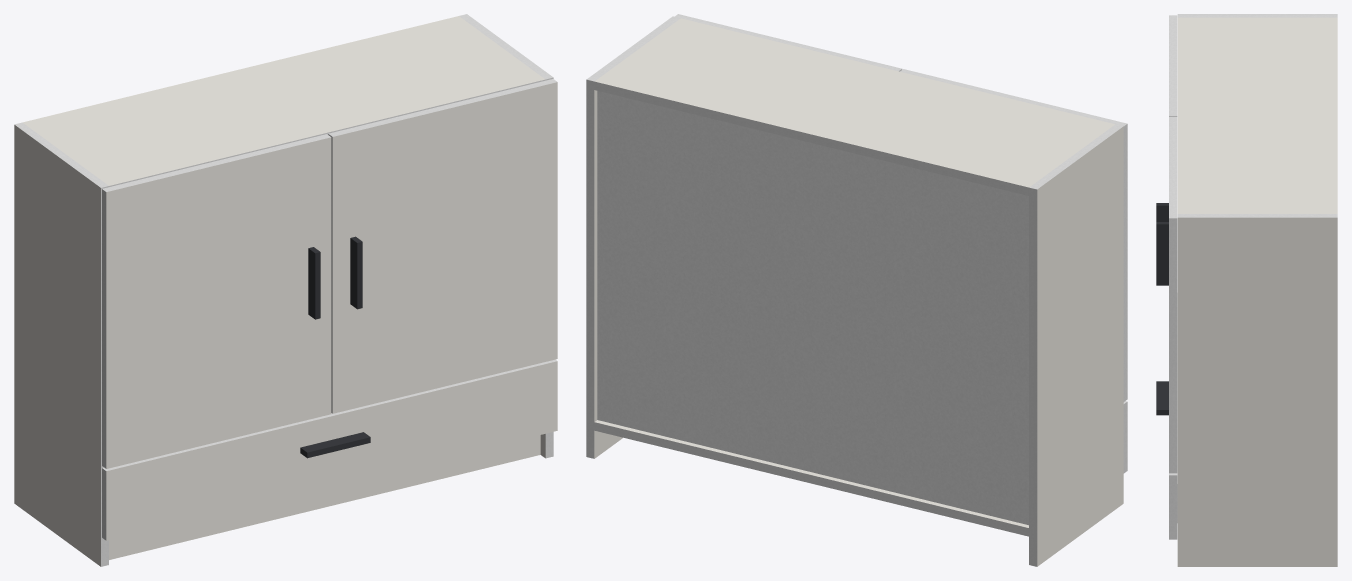
The model's file is LIT-CON-std.glb.
3 renders of one model, left to right at view 1: azimuth 30°, elevation 25°; view 2: azimuth 150°, elevation 25°; view 3: azimuth 270°, elevation 25°, orthographic. The views are drawn at different scales.
Visible parts, largest first — view 1: door-r:pbr, door-l:pbr, top:pbr, side-l:pbr, d1-front:pbr, plinth:pbr, pull, door-l:sheet:eyJtIjoibWRmIiwic2lkZSI6ImVkZ2UtbG9uZyIsInNlZWQ, d1-front:sheet:eyJtIjoibWRmIiwic2lkZSI6ImVkZ2UtbG9uZyIsInNlZ, door-l:sheet:eyJtIjoibWRmIiwic2lkZSI6ImVkZ2UtZW5kIiwic2VlZCI, door-r:sheet:eyJtIjoibWRmIiwic2lkZSI6ImVkZ2UtZW5kIiwic2VlZCI, top:sheet:eyJtIjoibWRmIiwic2lkZSI6ImVkZ2UtbG9uZyIsInNlZWQiOj (+2 smaller); view 2: back:sheet:eyJtIjoibWRmIiwic2lkZSI6ImZhY2UiLCJzZWVkIjoyLCJ0a, top:pbr, side-l:pbr, top:sheet:eyJtIjoibWRmIiwic2lkZSI6ImVkZ2UtbG9uZyIsInNlZWQiOj, bottom:sheet:eyJtIjoibWRmIiwic2lkZSI6ImVkZ2UtbG9uZyIsInNlZWQ, side-r:sheet:eyJtIjoibWRmIiwic2lkZSI6ImVkZ2UtbG9uZyIsInNlZWQ, side-l:sheet:eyJtIjoibWRmIiwic2lkZSI6ImVkZ2UtbG9uZyIsInNlZWQ, side-r:pbr, bottom:pbr, door-l:sheet:eyJtIjoibWRmIiwic2lkZSI6ImVkZ2UtbG9uZyIsInNlZWQ, door-r:sheet:eyJtIjoibWRmIiwic2lkZSI6ImVkZ2UtZW5kIiwic2VlZCI, door-l:sheet:eyJtIjoibWRmIiwic2lkZSI6ImVkZ2UtZW5kIiwic2VlZCI (+2 smaller); view 3: side-r:pbr, top:pbr, door-r:sheet:eyJtIjoibWRmIiwic2lkZSI6ImVkZ2UtbG9uZyIsInNlZWQ, pull, door-l:sheet:eyJtIjoibWRmIiwic2lkZSI6ImVkZ2UtZW5kIiwic2VlZCI, door-r:sheet:eyJtIjoibWRmIiwic2lkZSI6ImVkZ2UtZW5kIiwic2VlZCI, side-l:sheet:eyJtIjoibWRmIiwic2lkZSI6ImVkZ2UtZW5kIiwic2VlZCI, side-r:sheet:eyJtIjoibWRmIiwic2lkZSI6ImVkZ2UtZW5kIiwic2VlZCI, d1-front:sheet:eyJtIjoibWRmIiwic2lkZSI6ImVkZ2UtZW5kIiwic2VlZ.
Part boxes in pixels (box(x1,y1,x2,y2)): door-r:pbr: box(332, 82, 557, 413); door-l:pbr: box(106, 137, 331, 468); top:pbr: box(22, 16, 545, 185); side-l:pbr: box(14, 125, 100, 566); d1-front:pbr: box(106, 361, 557, 540); plinth:pbr: box(109, 435, 540, 559); pull: box(300, 236, 370, 458); door-l:sheet:eyJtIjoibWRmIiwic2lkZSI6ImVkZ2UtbG9uZyIsInNlZWQ: box(102, 189, 106, 468); d1-front:sheet:eyJtIjoibWRmIiwic2lkZSI6ImVkZ2UtbG9uZyIsInNlZ: box(102, 359, 557, 470); door-l:sheet:eyJtIjoibWRmIiwic2lkZSI6ImVkZ2UtZW5kIiwic2VlZCI: box(102, 134, 330, 191); door-r:sheet:eyJtIjoibWRmIiwic2lkZSI6ImVkZ2UtZW5kIiwic2VlZCI: box(328, 79, 556, 136); top:sheet:eyJtIjoibWRmIiwic2lkZSI6ImVkZ2UtbG9uZyIsInNlZWQiOj: box(109, 79, 545, 186); back:sheet:eyJtIjoibWRmIiwic2lkZSI6ImZhY2UiLCJzZWVkIjoyLCJ0a: box(597, 91, 1028, 525); top:pbr: box(595, 18, 1114, 187); side-l:pbr: box(1037, 126, 1123, 566); top:sheet:eyJtIjoibWRmIiwic2lkZSI6ImVkZ2UtbG9uZyIsInNlZWQiOj: box(594, 81, 1028, 195); bottom:sheet:eyJtIjoibWRmIiwic2lkZSI6ImVkZ2UtbG9uZyIsInNlZWQ: box(594, 422, 1028, 536); side-r:sheet:eyJtIjoibWRmIiwic2lkZSI6ImVkZ2UtbG9uZyIsInNlZWQ: box(586, 79, 594, 458); side-l:sheet:eyJtIjoibWRmIiwic2lkZSI6ImVkZ2UtbG9uZyIsInNlZWQ: box(1029, 187, 1037, 566); side-r:pbr: box(594, 90, 622, 458); bottom:pbr: box(595, 420, 1028, 527); door-l:sheet:eyJtIjoibWRmIiwic2lkZSI6ImVkZ2UtbG9uZyIsInNlZWQ: box(1123, 124, 1127, 401); door-r:sheet:eyJtIjoibWRmIiwic2lkZSI6ImVkZ2UtZW5kIiwic2VlZCI: box(675, 14, 901, 71); door-l:sheet:eyJtIjoibWRmIiwic2lkZSI6ImVkZ2UtZW5kIiwic2VlZCI: box(900, 69, 1126, 126); side-r:pbr: box(1177, 217, 1337, 566); top:pbr: box(1177, 17, 1337, 213); door-r:sheet:eyJtIjoibWRmIiwic2lkZSI6ImVkZ2UtbG9uZyIsInNlZWQ: box(1169, 218, 1177, 473); pull: box(1156, 203, 1168, 415); door-l:sheet:eyJtIjoibWRmIiwic2lkZSI6ImVkZ2UtZW5kIiwic2VlZCI: box(1169, 15, 1177, 116); door-r:sheet:eyJtIjoibWRmIiwic2lkZSI6ImVkZ2UtZW5kIiwic2VlZCI: box(1169, 117, 1177, 218); side-l:sheet:eyJtIjoibWRmIiwic2lkZSI6ImVkZ2UtZW5kIiwic2VlZCI: box(1177, 14, 1337, 17); side-r:sheet:eyJtIjoibWRmIiwic2lkZSI6ImVkZ2UtZW5kIiwic2VlZCI: box(1177, 214, 1337, 217); d1-front:sheet:eyJtIjoibWRmIiwic2lkZSI6ImVkZ2UtZW5kIiwic2VlZ: box(1169, 475, 1177, 539).
Size of the model in its own units: 1 by 0.8 by 0.3766.
Materials: 55 (42 with a texture image).
